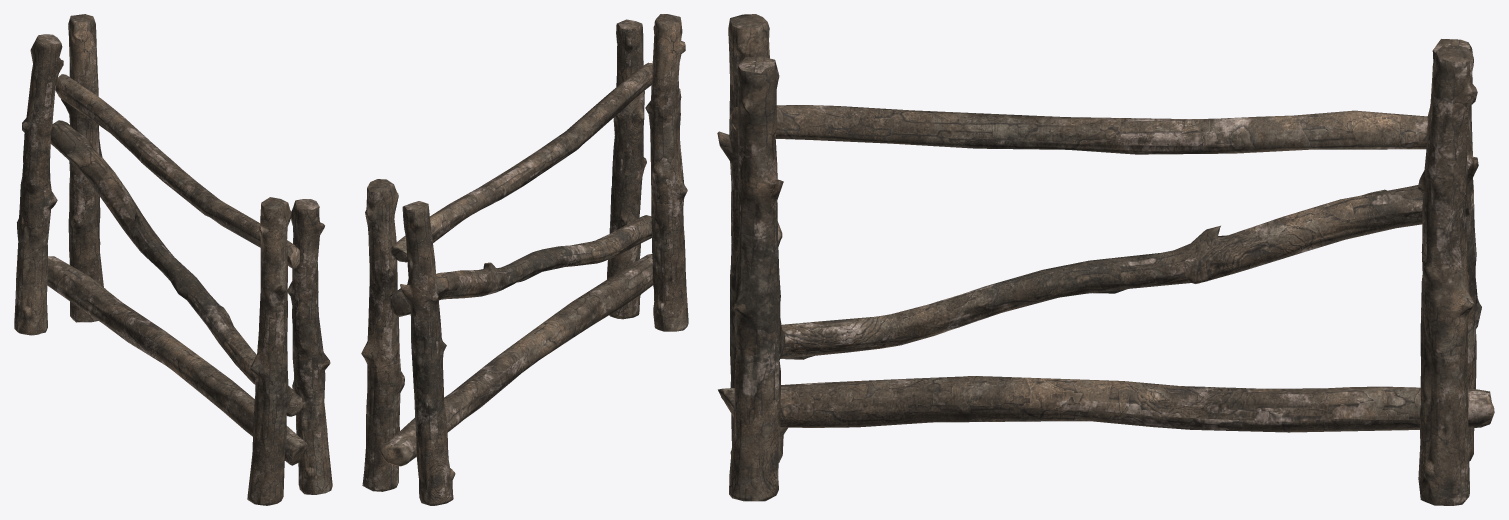
Rendered from SM_Fence_01c.fbx.
3 renders of one model, left to right at view 1: azimuth 30°, elevation 25°; view 2: azimuth 150°, elevation 25°; view 3: azimuth 270°, elevation 25°, orthographic. The views are drawn at different scales.
Visible parts, largest first — view 1: SM_Fence_01c_LOD0; view 2: SM_Fence_01c_LOD0; view 3: SM_Fence_01c_LOD0.
Boxes of the visible parts, x1,y1,x2,y2 form: SM_Fence_01c_LOD0: [14, 14, 332, 505]; SM_Fence_01c_LOD0: [361, 14, 688, 505]; SM_Fence_01c_LOD0: [717, 14, 1494, 505].
Bounding box in the file's own units: 41.76 × 222 × 140.
